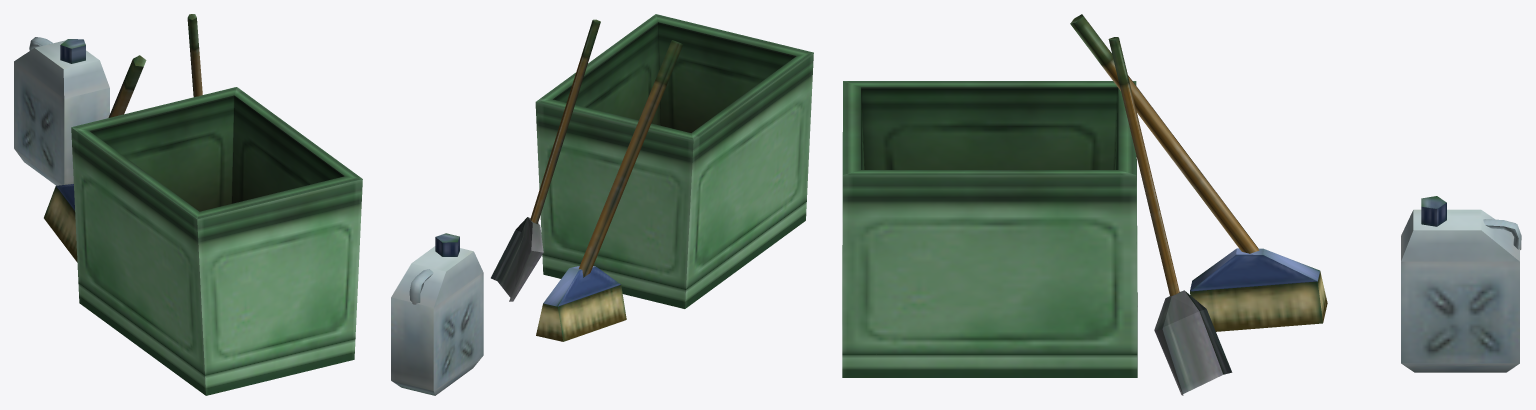
Rendered from a_SCwb02.glb.
3 views of the same model, side by side, from view 1: azimuth 30°, elevation 25°; view 2: azimuth 150°, elevation 25°; view 3: azimuth 270°, elevation 25° (orthographic). The views are drawn at different scales.
Visible parts, largest first — view 1: a_SCwb02; view 2: a_SCwb02; view 3: a_SCwb02.
Part boxes in pixels (box(x1,y1,x2,y2)): a_SCwb02: box(14, 14, 362, 395); a_SCwb02: box(391, 14, 813, 395); a_SCwb02: box(842, 14, 1521, 395).
Bounding box in the file's own units: 0.6751 × 0.9134 × 1.77.
Materials: 1 (1 with a texture image).
